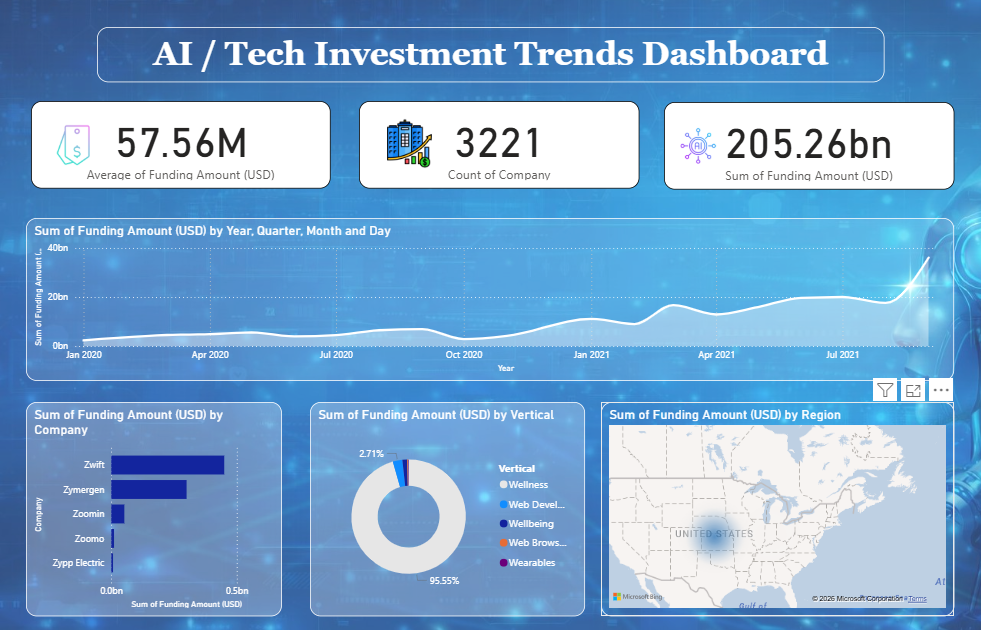

This screenshot's page, from the dashboard's own definition file:
{"tool":"powerbi","page":{"name":"Page 1","canvas":[1283,833],"ordinal":0},"visuals":[{"type":"lineChart","fields":{"Y":["Sum(tech_fundings.Funding Amount (USD))"],"Category":["tech_fundings.Funding Date.Variation.Date Hierarchy.Year","tech_fundings.Funding Date.Variation.Date Hierarchy.Quarter","tech_fundings.Funding Date.Variation.Date Hierarchy.Month","tech_fundings.Funding Date.Variation.Date Hierarchy.Day"]},"box":[36.8,290.1,1207.8,211.8],"z":0},{"type":"clusteredBarChart","fields":{"Y":["Sum(tech_fundings.Funding Amount (USD))"],"Category":["tech_fundings.Company"]},"box":[36.8,529.5,333,279.3],"z":1000},{"type":"donutChart","fields":{"Category":["tech_fundings.Vertical"],"Y":["Sum(tech_fundings.Funding Amount (USD))"]},"box":[406.7,529.5,357.6,279.3],"z":2000},{"type":"map","fields":{"Category":["tech_fundings.Region"],"Size":["Sum(tech_fundings.Funding Amount (USD))"]},"box":[784.2,529.5,460.4,279.3],"z":3000},{"type":"card","fields":{"Values":["Sum(tech_fundings.Funding Amount (USD))"]},"box":[867.1,139.7,377.5,113.6],"z":4000},{"type":"card","fields":{"Values":["Count(tech_fundings.Company)"]},"box":[469.6,138.1,365.3,113.6],"z":5000},{"type":"card","fields":{"Values":["Avg(tech_fundings.Funding Amount (USD))"]},"box":[43,138.1,389.8,113.6],"z":6000},{"type":"textbox","box":[128.9,41.4,1025.2,72.1],"z":7000},{"type":"image","box":[498.8,151.9,73.7,81.3],"z":8000},{"type":"image","box":[66,164.2,62.9,62.9],"z":9000},{"type":"image","box":[879.4,167.3,62.9,56.8],"z":10000}]}

Visuals, with their boxes in screenshot pixels (x1, y1, x2, y2), scaled from the page's 1283x833 canvas onto the 981x630 screenshot:
lineChart - Sum(tech_fundings.Funding Amount (USD)) x tech_fundings.Funding Date.Variation.Date Hierarchy.Year: select_region(28, 219, 952, 380)
clusteredBarChart - Sum(tech_fundings.Funding Amount (USD)) x tech_fundings.Company: select_region(28, 400, 283, 612)
donutChart - tech_fundings.Vertical x Sum(tech_fundings.Funding Amount (USD)): select_region(311, 400, 584, 612)
map - tech_fundings.Region x Sum(tech_fundings.Funding Amount (USD)): select_region(600, 400, 952, 612)
card - Sum(tech_fundings.Funding Amount (USD)): select_region(663, 106, 952, 192)
card - Count(tech_fundings.Company): select_region(359, 104, 638, 190)
card - Avg(tech_fundings.Funding Amount (USD)): select_region(33, 104, 331, 190)
textbox: select_region(99, 31, 882, 86)
image: select_region(381, 115, 438, 176)
image: select_region(50, 124, 99, 172)
image: select_region(672, 127, 720, 169)
